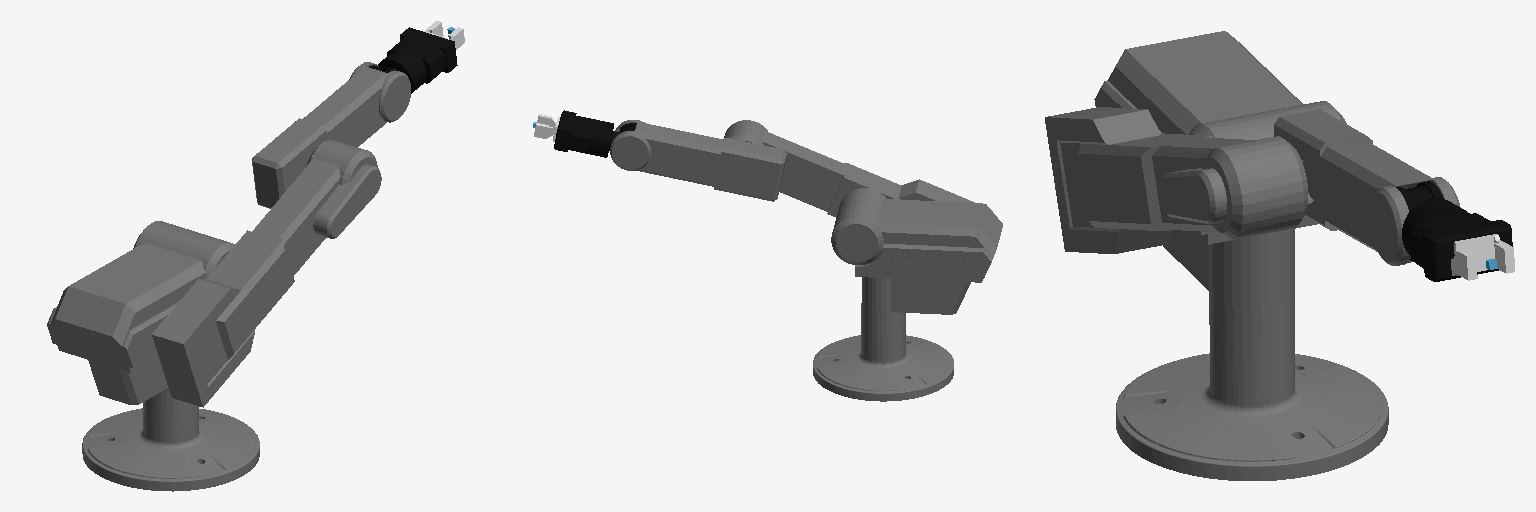
URDF robot description (scorbot):
<?xml version="1.0" encoding="utf-8"?>
<!-- =================================================================================== -->
<!-- |    This document was autogenerated by xacro from scorbot.urdf.xacro             | -->
<!-- |    EDITING THIS FILE BY HAND IS NOT RECOMMENDED                                 | -->
<!-- =================================================================================== -->
<robot name="scorbot">

  <link name="world"/>
  <joint name="dummy" type="fixed">
    <parent link="world"/>
    <child link="base"/>
  </joint>

  <!-- base -->
  <link name="base">
    <inertial>
      <origin rpy="0 0 0" xyz="-5.6661E-09 -4.8129E-10 0.049865"/>
      <mass value="3.5594"/>
      <inertia ixx="0.025688" ixy="-2.4368E-10" ixz="1.2537E-10" iyy="0.025688" iyz="-3.2961E-12" izz="0.028476"/>
    </inertial>
    <visual>
      <origin rpy="1.5707963268 0 0" xyz="0 0 0"/>
      <geometry>
        <mesh filename="package://scorbot_gazebo_effort/meshes/base.dae"/>
      </geometry>
      <material name="">
        <color rgba="0.5 0.5 0.5 1"/>
      </material>
    </visual>
    <collision>
      <origin rpy="0 0 0" xyz="0 0 0.0225"/>
      <geometry>
        <cylinder length="0.045" radius="0.16"/>
      </geometry>
    </collision>
    <collision>
      <origin rpy="0 0 0" xyz="0 0 0.085"/>
      <geometry>
        <cylinder length="0.170" radius="0.05"/>
      </geometry>
    </collision>
  </link>

  <!-- body (link 1) -->
  <link name="body">
    <inertial>
      <origin rpy="0 0 0" xyz="-0.072272 -0.0016694 0.145"/>
      <mass value="9.7868"/>
      <inertia ixx="0.05511" ixy="-0.001985" ixz="0.0061208" iyy="0.12037" iyz="-0.00070806" izz="0.10965"/>
    </inertial>
    <visual>
      <origin rpy="-1.5707963268 0 0" xyz="0 0 0"/>
      <geometry>
        <mesh filename="package://scorbot_gazebo_effort/meshes/body.dae"/>
      </geometry>
      <material name="">
        <color rgba="0.5 0.5 0.5 1"/>
      </material>
    </visual>
    <collision>
      <origin rpy="0 0 0" xyz="-0.08 0 0.125"/>
      <geometry>
        <box size="0.380 0.18 0.25"/>
      </geometry>
    </collision>
  </link>

  <!-- base_joint (joint) -->
  <joint name="base_joint" type="revolute">
    <origin rpy="0 0 0.411898" xyz="0 0 0.17"/>  <!-- modificación origin rpy -> y: 0-> 0.411898 = 23.6°--> 
    <parent link="base"/>
    <child link="body"/>
    <axis xyz="0 0 1"/>
    <limit effort="30" lower="-2.18166156499" upper="2.18166156499" velocity="1.0"/>
  </joint>

  <!-- upper_arm (link 2) -->
  <link name="upper_arm">
    <inertial>
      <origin rpy="0 0 0" xyz="0.040893 -0.046847 -6.337E-05"/>
      <mass value="5.4535"/>
      <inertia ixx="0.010363" ixy="-0.0023486" ixz="3.9183E-05" iyy="0.1835" iyz="-4.8475E-07" izz="0.18016"/>
    </inertial>
    <visual>
      <origin rpy="-1.5707963268 0 0" xyz="0 0 0"/>
      <geometry>
        <mesh filename="package://scorbot_gazebo_effort/meshes/upper_arm.dae"/>
      </geometry>
      <material name="">
        <color rgba="0.5 0.5 0.5 1"/>
      </material>
    </visual>
    <collision>
      <origin rpy="0 0 0" xyz="0.06 -0.06 0"/>
      <geometry>
        <box size="0.60 0.12 0.16"/>
      </geometry>
    </collision>
  </link>

  <!-- shoulder (joint) -->
  <joint name="shoulder" type="revolute">
    <origin rpy="0 -0.383972 0" xyz="0.05 -0.096 0.1885"/> <!-- modificación origin rpy -> p: 0-> -0.383972 = -22° --> 
    <parent link="body"/>
    <child link="upper_arm"/>
    <axis xyz="0 1 0"/>
    <limit effort="30" lower="-1.4835298642" upper="1.4835298642" velocity="1.0"/>
  </joint>

  <!-- forearm (link 3) -->
  <link name="forearm">
    <inertial>
      <origin rpy="0 0 0" xyz="0.073997 0.038242 4.5577E-11"/>
      <mass value="2.194"/>
      <inertia ixx="0.0025816" ixy="5.645E-05" ixz="1.195E-11" iyy="0.024687" iyz="4.1344E-12" izz="0.02443"/>
    </inertial>
    <visual>
      <origin rpy="1.5707963268 0 0" xyz="0 0 0"/>
      <geometry>
        <mesh filename="package://scorbot_gazebo_effort/meshes/forearm.dae"/>
      </geometry>
      <material name="">
        <color rgba="0.5 0.5 0.5 1"/>
      </material>
    </visual>
    <collision>
      <origin rpy="0 0 0" xyz="0.05 0.035 0"/>
      <geometry>
        <box size="0.3 0.095 0.12"/>
      </geometry>
    </collision>
  </link>

  <!-- elbow (joint) -->
  <joint name="elbow" type="revolute">
    <origin rpy="0 0.20944 0" xyz="0.3 0.021 0"/>  <!-- modificación origin rpy -> p: 0-> 0.20944 = 12°--> 
    <parent link="upper_arm"/>
    <child link="forearm"/>
    <axis xyz="0 -1 0"/>
    <limit effort="30" lower="-1.96349540849" upper="1.96349540849" velocity="1.0"/>
  </joint>

  <!-- flange (link 4) -->
  <link name="flange">
    <inertial>
      <origin rpy="0 0 0" xyz="0.0069957 -0.02 5.5511E-17"/>
      <mass value="0.24441"/>
      <inertia ixx="0.00014819" ixy="1.6491E-20" ixz="-1.653E-19" iyy="0.00028003" iyz="5.3591E-21" izz="0.00021086"/>
    </inertial>
    <visual>
      <origin rpy="-1.5707963268 0 0" xyz="0 0 0"/>
      <geometry>
        <mesh filename="package://scorbot_gazebo_effort/meshes/flange.dae"/>
      </geometry>
      <material name="">
        <color rgba="0.1 0.1 0.1 1"/>
      </material>
    </visual>
    <collision>
      <origin rpy="-1.5707963268 0 0" xyz="0 -0.024 0"/>
      <geometry>
        <cylinder length="0.105" radius="0.05"/>
      </geometry>
    </collision>
  </link>

  <!-- pitch (joint) -->
  <joint name="pitch" type="revolute">
    <origin rpy="0 0 0" xyz="0.25 0.058 0"/>
    <parent link="forearm"/>
    <child link="flange"/>
    <axis xyz="0 -1 0"/>
    <limit effort="30" lower="-1.5707963268" upper="1.5707963268" velocity="1.0"/>
  </joint>

  <!-- roll (joint) -->
  <joint name="roll" type="revolute">
    <origin rpy="0 0 0" xyz="0.054 -0.024 0"/>
    <parent link="flange"/>
    <child link="gripper_base_link"/>
    <axis xyz="-1 0 0"/>
    <limit effort="30" lower="-3.14159265359" upper="3.14159265359" velocity="1.0"/>
  </joint>


  <!-- Gripper base (link 5) -->
  <link name="gripper_base_link">
    <inertial>
      <origin rpy="0 0 0" xyz="0.0593648790750631 0 0"/>
      <mass value="1.59125921054032"/>
      <inertia ixx="0.00147991252859225" ixy="1.34230402513126E-19" ixz="1.07467005492524E-19" iyy="0.00232303179944379" iyz="-4.07594317291221E-20" izz="0.00291367454744379"/>
    </inertial>
    <visual>
      <origin rpy="-1.5707963268 0 0" xyz="0 0 0"/>
      <geometry>
        <mesh filename="package://scorbot_gazebo_effort/meshes/gripper_base.dae"/>
      </geometry>
      <material name="">
        <color rgba="0.1 0.1 0.1 1"/>
      </material>
    </visual>
    <collision>
      <origin rpy="0 0 0" xyz="0.08 0.0 0.0"/>
      <geometry>
        <box size="0.078 0.110 0.055"/>
      </geometry>
    </collision>
    <collision>
      <origin rpy="0 -1.5707963268 0" xyz="0.019 0 0"/>
      <geometry>
        <cylinder length="0.044" radius="0.05"/>
      </geometry>
    </collision>
  </link>

  <!-- Gripper left (link 6) -->
  <link name="gripper_finger_left">
    <inertial>
      <origin rpy="0 0 0" xyz="0.021935 0.017436 0.0038599"/>
      <mass value="0.1"/>
      <inertia ixx="1.4677E-05" ixy="-7.1238E-06" ixz="3.6153E-06" iyy="1.82E-05" iyz="2.343E-06" izz="2.4607E-05"/>
    </inertial>
    <visual>
      <origin rpy="-1.5707963268 0 0" xyz="0 0 0"/>
      <geometry>
        <mesh filename="package://scorbot_gazebo_effort/meshes/gripper_finger.dae"/>
      </geometry>
      <material name="">
        <color rgba="0.9 0.9 0.9 1"/>
      </material>
    </visual>
    <collision>
      <origin rpy="-1.5707963268 0 0" xyz="0 0 0"/>
      <geometry>
        <mesh filename="package://scorbot_gazebo_effort/meshes/gripper_finger.dae"/>
      </geometry>
    </collision>
  </link>

  <!-- Gripper left (joint) -->
  <joint name="gripper_finger_left_joint" type="prismatic">
    <origin rpy="0 0 0" xyz="0.118 0.0026 0.010"/>
    <parent link="gripper_base_link"/>
    <child link="gripper_finger_left"/>
    <axis xyz="0 1 0"/>
    <limit effort="30" lower="-0.018" upper="0.016" velocity="1.0"/>
  </joint>

  <!-- Gripper left (link 7) -->
  <link name="gripper_finger_right">
    <inertial>
      <origin rpy="0 0 0" xyz="0.021935 0.014436 -0.0061401"/>
      <mass value="0.1"/>
      <inertia ixx="1.4677E-05" ixy="-7.1238E-06" ixz="3.6153E-06" iyy="1.82E-05" iyz="2.343E-06" izz="2.4607E-05"/>
    </inertial>
    <visual>
      <origin rpy="1.5707963268 0 0" xyz="0 0 0"/>
      <geometry>
        <mesh filename="package://scorbot_gazebo_effort/meshes/gripper_finger.dae"/>
      </geometry>
      <material name="">
        <color rgba="0.9 0.9 0.9 1"/>
      </material>
    </visual>
    <collision>
      <origin rpy="1.5707963268 0 0" xyz="0 0 0"/>
      <geometry>
        <mesh filename="package://scorbot_gazebo_effort/meshes/gripper_finger.dae"/>
      </geometry>
    </collision>
  </link>

  <!-- Gripper right (joint) -->
  <joint name="gripper_finger_right_joint" type="prismatic">
    <origin rpy="0 0 0" xyz="0.118 -0.0026 -0.010"/>
    <parent link="gripper_base_link"/>
    <child link="gripper_finger_right"/>
    <axis xyz="0 -1 0"/>
    <limit effort="30" lower="-0.018" upper="0.016" velocity="1.0"/>
  </joint>

  <!-- end effector link -->
  <link name="end_effector_link">
    <visual>
      <origin xyz="0 0 0" rpy="0 0 0"/>
      <geometry>
        <box size="0.01 0.01 0.01" />
      </geometry>
      <material name="red"/>
     </visual>

    <inertial>
      <origin xyz="0 0 0" />
      <mass value="1.0e-03" />
      <inertia ixx="1.0e-03" ixy="0.0" ixz="0.0"
               iyy="1.0e-03" iyz="0.0"
               izz="1.0e-03" />
    </inertial>
  </link>

    <!-- end effector joint -->
  <joint name="end_effector_joint" type="fixed">
    <origin xyz="0.17 0.0 0.0" rpy="0 0 0"/>  <!-- 0.17 -->
    <parent link="gripper_base_link"/>
    <child link="end_effector_link"/>
  </joint>

</robot>

--- What the picture shows (computed from the rendered views, not written in the file) ---
3 views of the same robot in one strip: view 1: azimuth 30°, elevation 25°; view 2: azimuth 150°, elevation 25°; view 3: azimuth 270°, elevation 25° (orthographic).
Robot: scorbot — 10 links, 9 joints (5 revolute, 2 prismatic, 2 fixed); root link world; default pose: all joints at 0.
Visible links, largest first — view 1: upper_arm, body, base, forearm, gripper_base_link; view 2: body, base, forearm, upper_arm, gripper_base_link; view 3: base, upper_arm, body, forearm, gripper_base_link, gripper_finger_left, gripper_finger_right, flange.
Boxes of the visible links, bbox=[...] form: upper_arm: bbox=[152, 140, 381, 407]; body: bbox=[47, 221, 234, 404]; base: bbox=[82, 388, 259, 491]; forearm: bbox=[252, 62, 410, 208]; gripper_base_link: bbox=[383, 27, 457, 92]; body: bbox=[831, 188, 1002, 314]; base: bbox=[813, 303, 953, 401]; forearm: bbox=[610, 120, 786, 201]; upper_arm: bbox=[723, 120, 974, 216]; gripper_base_link: bbox=[554, 110, 611, 157]; base: bbox=[1116, 292, 1388, 480]; upper_arm: bbox=[1045, 107, 1307, 253]; body: bbox=[1094, 31, 1346, 309]; forearm: bbox=[1274, 109, 1460, 265]; gripper_base_link: bbox=[1403, 199, 1512, 281]; gripper_finger_left: bbox=[1454, 234, 1514, 273]; gripper_finger_right: bbox=[1451, 249, 1494, 280]; flange: bbox=[1396, 181, 1447, 260].
Size in the robot's own frame: 1.03 by 0.5518 by 0.57 metres.
8 mesh visuals loaded from 7 distinct referenced files (7 Collada DAE).
